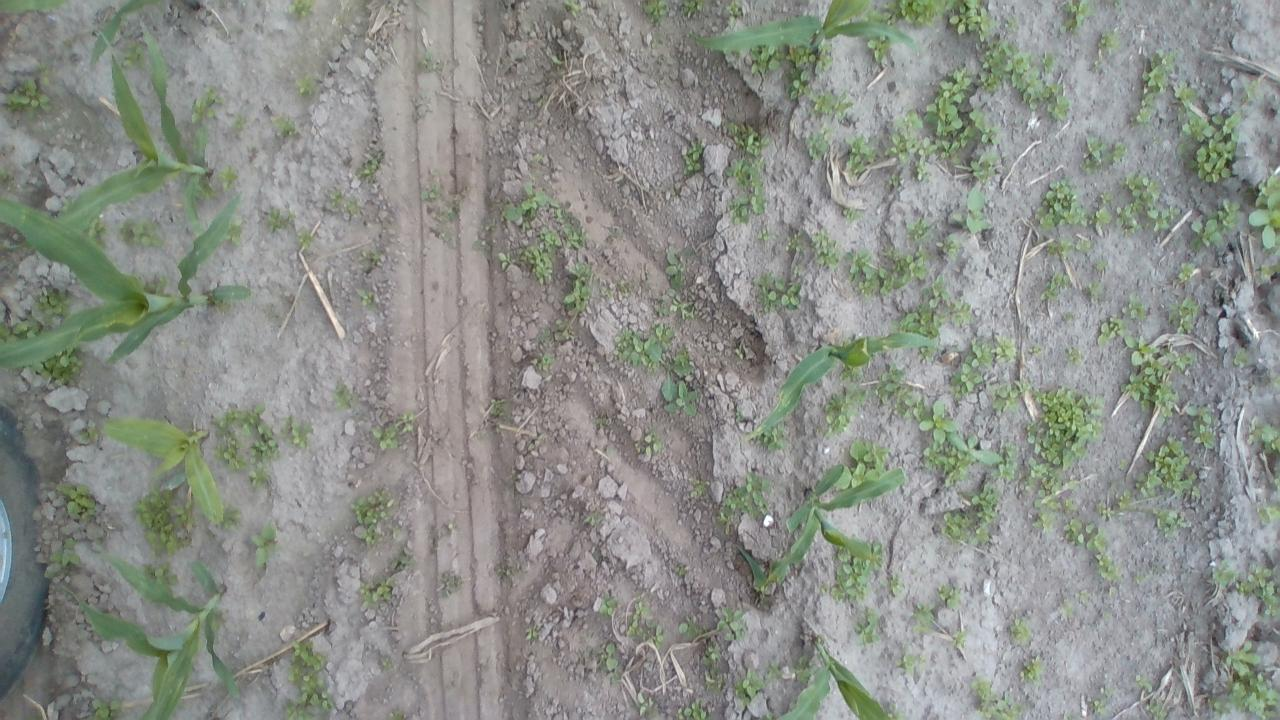Maize: (1, 191, 252, 367), (57, 12, 217, 228), (64, 554, 236, 720), (732, 464, 904, 599), (746, 330, 946, 438), (101, 417, 225, 524), (688, 0, 918, 53), (772, 637, 894, 720), (89, 0, 160, 64), (0, 0, 67, 16)
Weeds: (886, 64, 1000, 160), (974, 38, 1070, 120), (1022, 386, 1104, 468), (208, 401, 282, 488), (1206, 642, 1280, 718), (1126, 335, 1194, 412), (1182, 106, 1244, 186), (498, 224, 582, 280), (898, 276, 975, 336), (1135, 436, 1201, 506), (931, 483, 1000, 549), (1114, 168, 1178, 234), (844, 247, 930, 296), (951, 335, 1012, 400), (1014, 464, 1074, 528), (137, 486, 190, 554), (916, 438, 1001, 480), (288, 645, 335, 720), (1022, 178, 1084, 233), (1132, 48, 1173, 126), (719, 474, 775, 530), (830, 543, 884, 600), (350, 483, 399, 545), (612, 323, 672, 372), (659, 346, 699, 419), (722, 160, 768, 222), (822, 380, 872, 436), (1234, 560, 1280, 618), (878, 362, 924, 419), (1190, 200, 1240, 252), (966, 674, 1020, 720), (1251, 170, 1280, 255), (752, 272, 806, 317), (870, 0, 945, 32), (501, 186, 556, 222), (949, 0, 996, 40), (842, 441, 883, 486), (624, 602, 664, 646), (1081, 134, 1126, 172), (954, 184, 990, 231), (5, 78, 50, 115), (1090, 527, 1122, 578), (724, 121, 769, 156), (560, 260, 590, 312), (1096, 314, 1135, 354), (185, 85, 227, 122), (919, 400, 956, 442), (38, 280, 76, 320), (805, 224, 840, 267), (1186, 402, 1220, 446), (1148, 506, 1192, 540), (714, 604, 752, 643), (990, 379, 1030, 416), (653, 288, 694, 324), (56, 480, 91, 522), (809, 87, 852, 121), (368, 416, 412, 448), (1166, 290, 1198, 334), (843, 134, 877, 175), (119, 217, 162, 248), (748, 44, 785, 77), (254, 520, 280, 566), (46, 542, 85, 572), (1245, 416, 1280, 448), (664, 247, 694, 283), (852, 606, 879, 646), (790, 48, 831, 74), (46, 355, 84, 383), (0, 318, 42, 342), (1118, 296, 1152, 324), (290, 414, 316, 450), (733, 666, 762, 698), (90, 694, 126, 719), (1041, 268, 1069, 300), (670, 698, 710, 720), (702, 641, 722, 685), (684, 133, 706, 172), (803, 130, 831, 160), (907, 604, 933, 635), (1018, 654, 1046, 682), (362, 576, 392, 602), (1064, 0, 1090, 30), (938, 586, 968, 612), (965, 153, 996, 178), (119, 35, 141, 68), (1009, 614, 1033, 644), (146, 564, 182, 583), (764, 426, 790, 451), (1062, 516, 1086, 543), (217, 500, 240, 528), (1259, 502, 1280, 532), (1212, 562, 1236, 588), (220, 162, 242, 190), (336, 381, 360, 406), (1148, 694, 1172, 719), (266, 207, 292, 230), (358, 154, 381, 180), (601, 641, 619, 674), (1091, 684, 1112, 712), (286, 0, 320, 17), (1256, 258, 1278, 284), (885, 573, 907, 599), (999, 446, 1019, 474), (936, 237, 960, 260), (690, 476, 710, 503), (1173, 78, 1195, 102), (1087, 208, 1109, 232), (678, 1, 702, 22), (418, 50, 439, 74), (294, 72, 316, 94), (907, 214, 929, 236), (1244, 75, 1262, 101), (78, 422, 100, 443), (223, 226, 246, 246), (1096, 31, 1120, 50), (796, 648, 810, 680), (915, 344, 941, 361), (1178, 260, 1200, 280), (642, 430, 659, 455), (230, 115, 250, 136), (951, 626, 971, 647), (900, 653, 924, 670), (1066, 344, 1086, 364), (37, 62, 53, 87), (90, 220, 108, 242), (564, 0, 582, 22), (1116, 486, 1132, 510), (676, 618, 700, 634), (358, 250, 379, 268), (646, 0, 666, 18), (789, 78, 805, 100), (755, 222, 773, 241), (534, 346, 553, 364), (1040, 51, 1060, 68), (766, 657, 783, 677), (584, 509, 604, 526), (1044, 241, 1070, 254), (327, 188, 343, 208), (296, 226, 314, 243), (724, 1, 742, 18), (1096, 499, 1112, 518), (1234, 350, 1250, 369), (276, 118, 296, 133), (608, 278, 626, 294), (0, 170, 18, 186), (598, 596, 616, 612), (1134, 672, 1152, 688), (1083, 280, 1099, 298), (1074, 236, 1090, 253), (358, 286, 372, 304), (841, 204, 860, 217), (595, 411, 611, 426), (786, 234, 800, 251), (420, 187, 436, 201), (524, 626, 540, 640), (1058, 602, 1074, 616), (674, 562, 690, 576), (490, 400, 504, 416), (387, 710, 409, 720), (1094, 257, 1106, 270), (1076, 588, 1090, 599), (1026, 346, 1042, 355), (1132, 572, 1146, 582), (349, 199, 358, 214), (1101, 190, 1112, 202), (1118, 460, 1127, 472)
